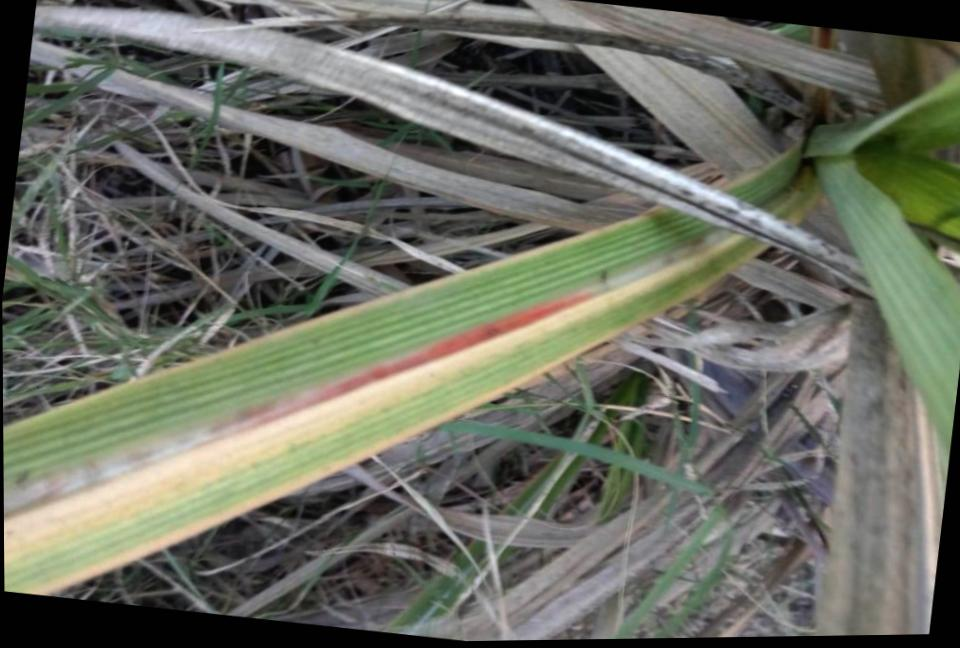RedRot: (197, 293, 597, 438)
Yellow: (4, 236, 771, 596)
